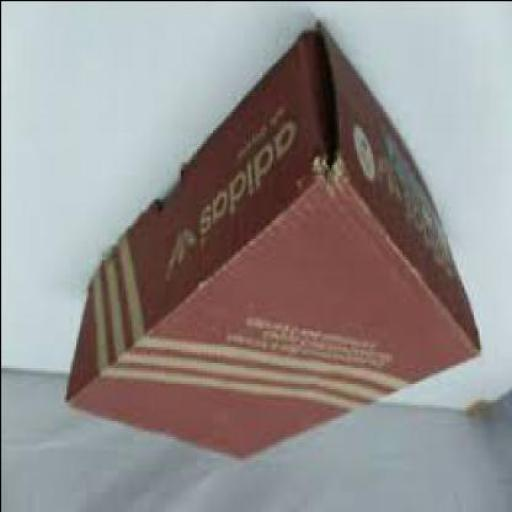cardboard: (67, 27, 481, 462)
